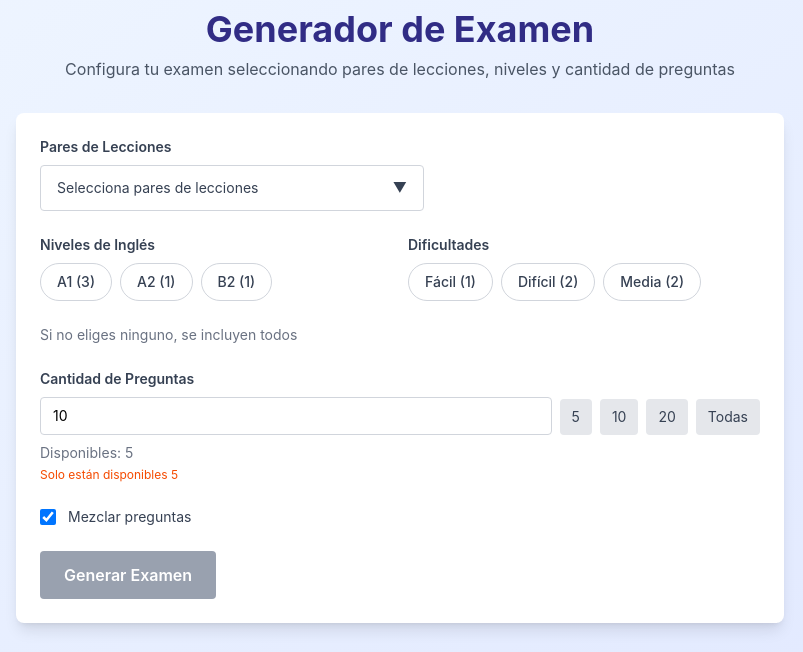
ConfigPage › Pair dropdown › "Seleccionar todos" selects every pair
The image size is (803, 652).
Click the button "Selecciona pares de lecciones ▼": (232, 188) [40,165,424,211]
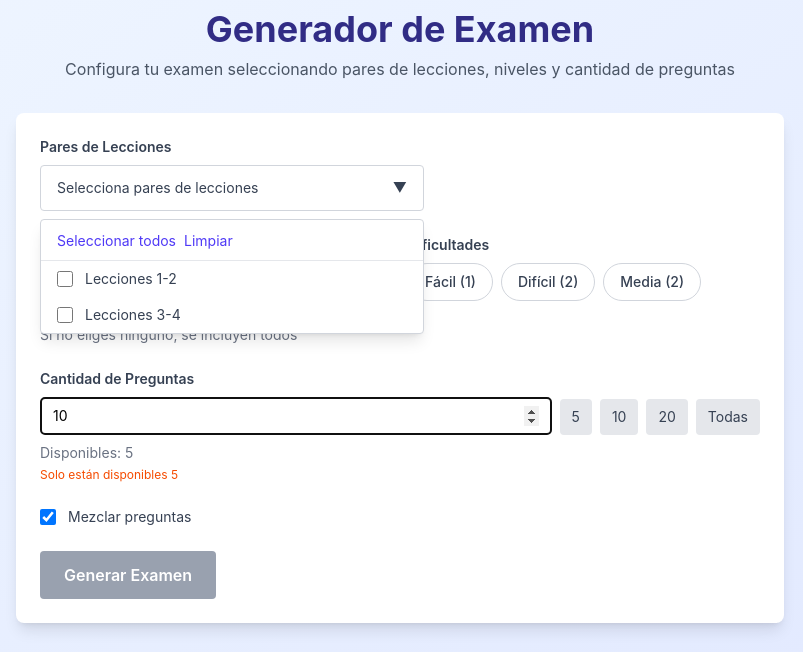
Click the button "Seleccionar todos": (116, 241) [57,231,176,251]
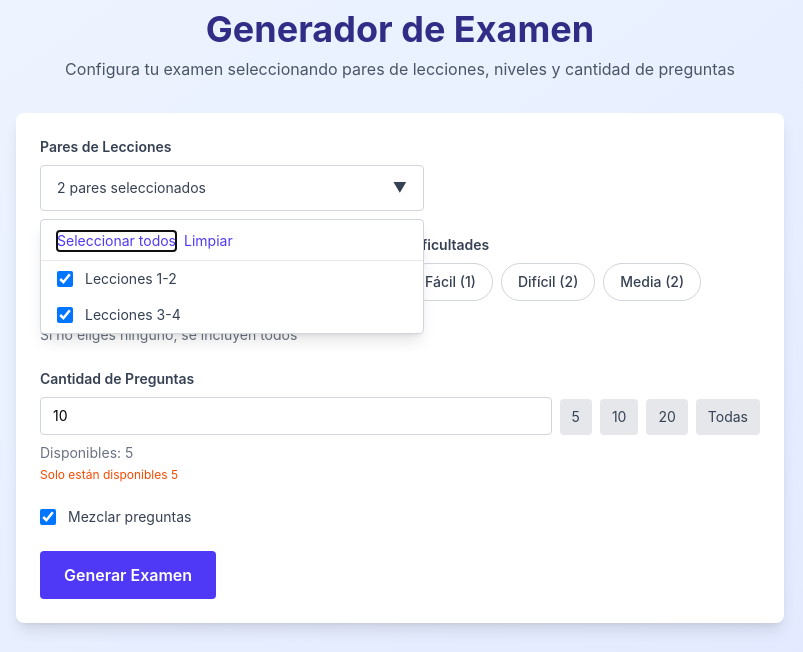
Now the button named "Selecciona pares de lecciones" shows "2 pares seleccionados", box [40,165,424,211]
